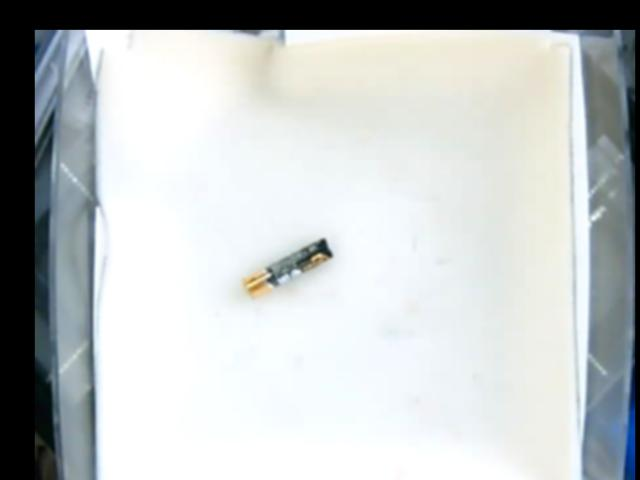Battery: (243, 237, 335, 300)
